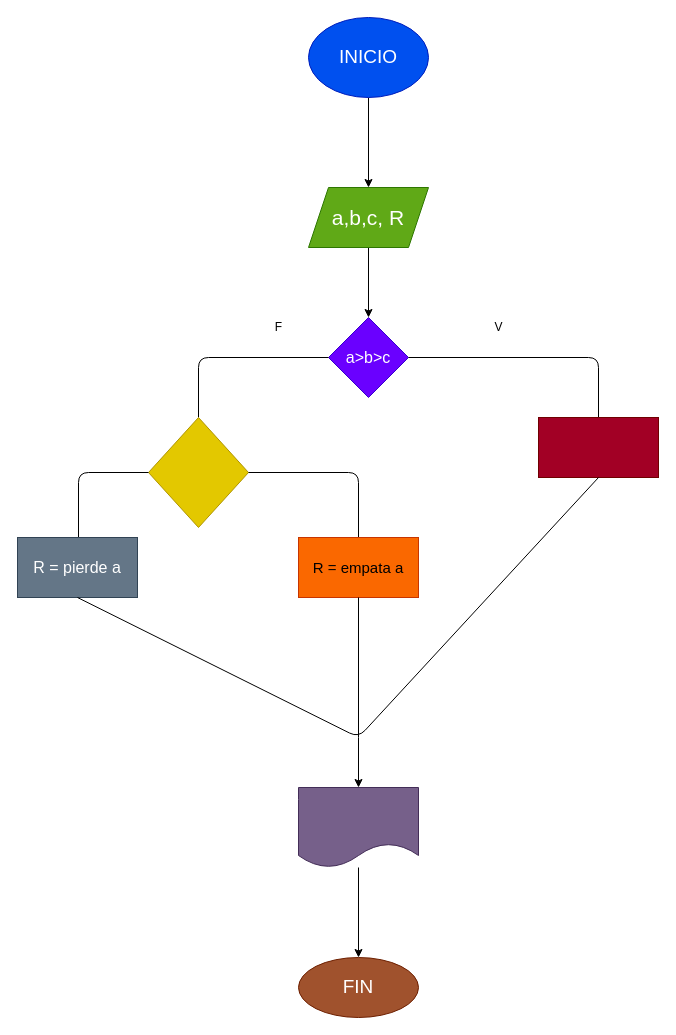
The diagram is 676 pixels wide and 1035 high, and some of its shapes have lost their labels. Here are the shapes that lost their labels. From the top down, the centre of each, then its label:
At (598,447): "r = el ganador es a".
At (198,472): "r= hay empate o derrota".
At (358,827): "Resultado final".
